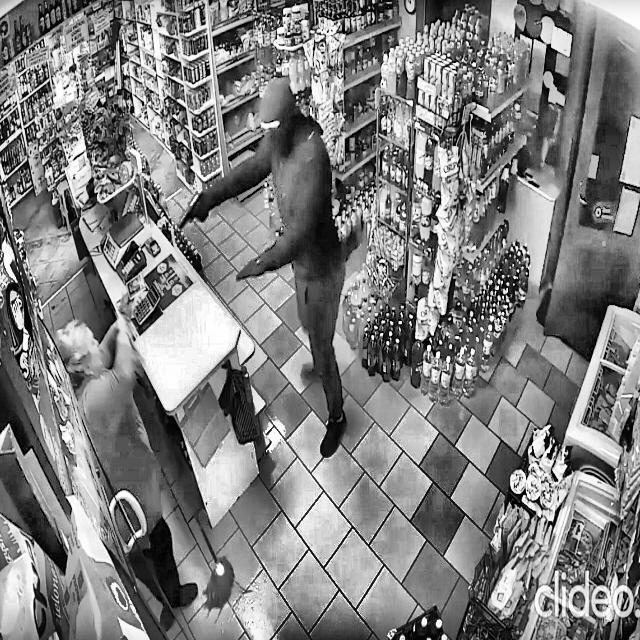pistol: (170, 179, 206, 256)
robbery: (54, 41, 358, 636)
